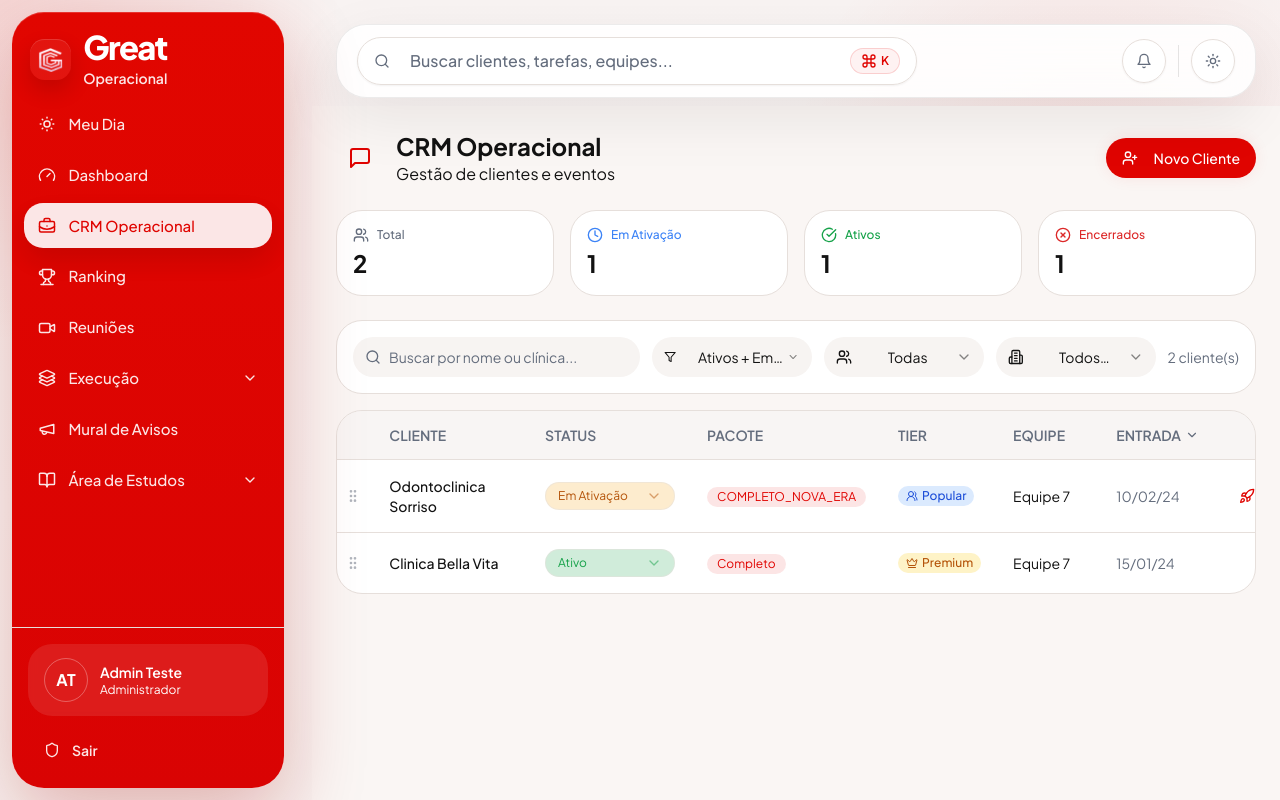
Test: CRM - Estatisticas e Novo Cliente › abre o dialog Novo Cliente Operacional ao clicar no botao
The image size is (1280, 800).
Check: the link "CRM Operacional" is shown, box x1=24 y1=203 x2=272 y2=248
Click the button "Novo Cliente": (1181, 158) x1=1106 y1=138 x2=1256 y2=178
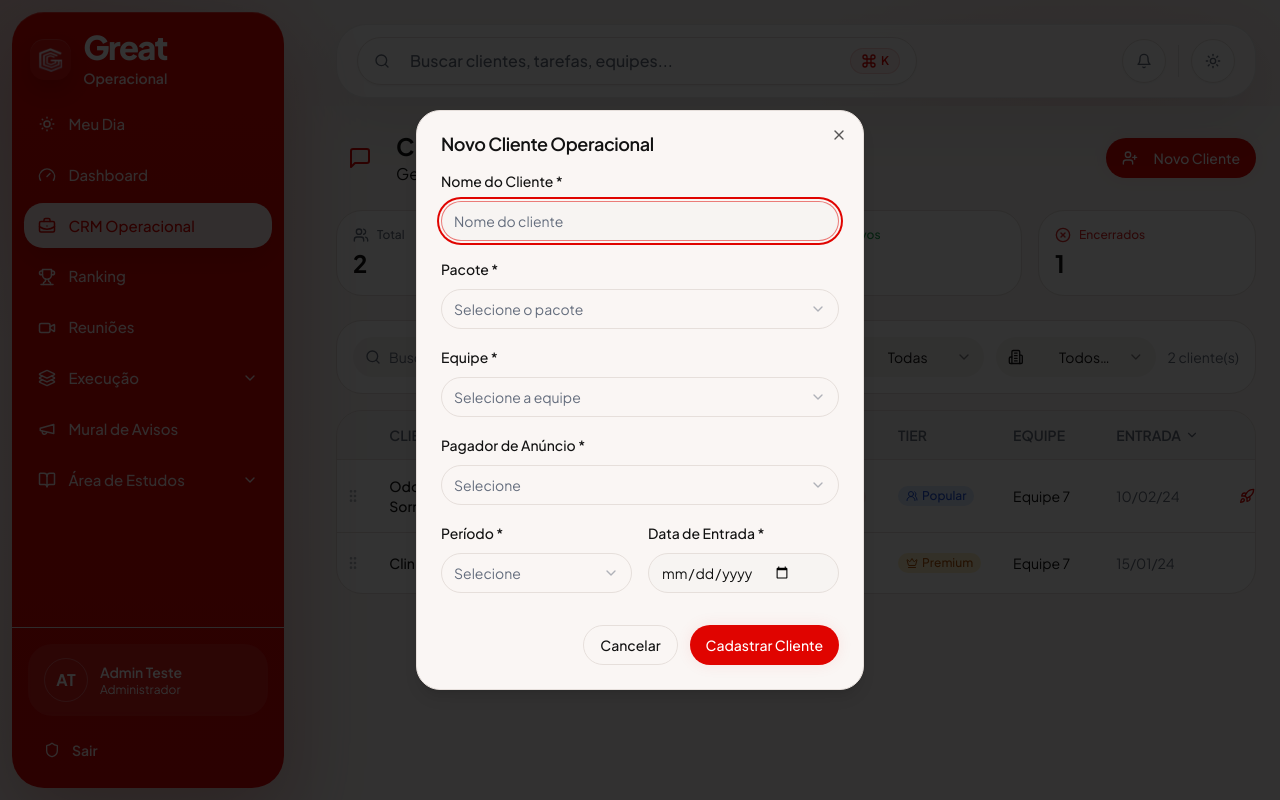
Check: the dialog is shown, box x1=416 y1=110 x2=864 y2=690
Check: the heading "Novo Cliente Operacional" is shown, box x1=441 y1=132 x2=654 y2=155
